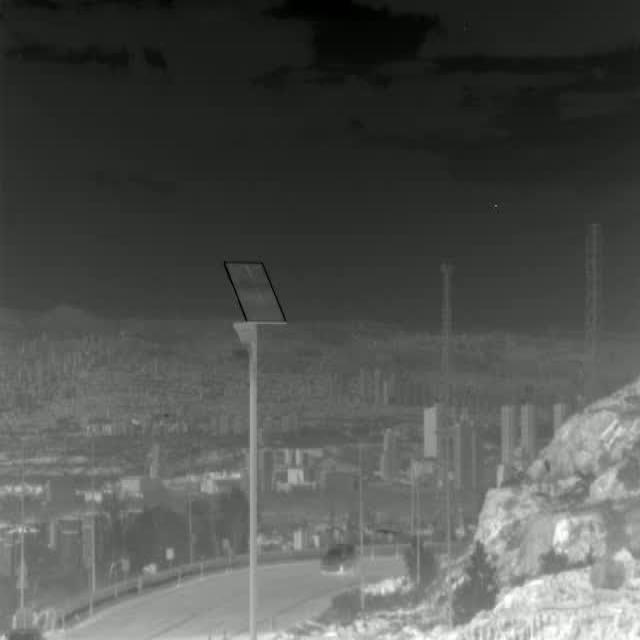Car: (320, 542, 357, 578), (5, 624, 45, 640)
